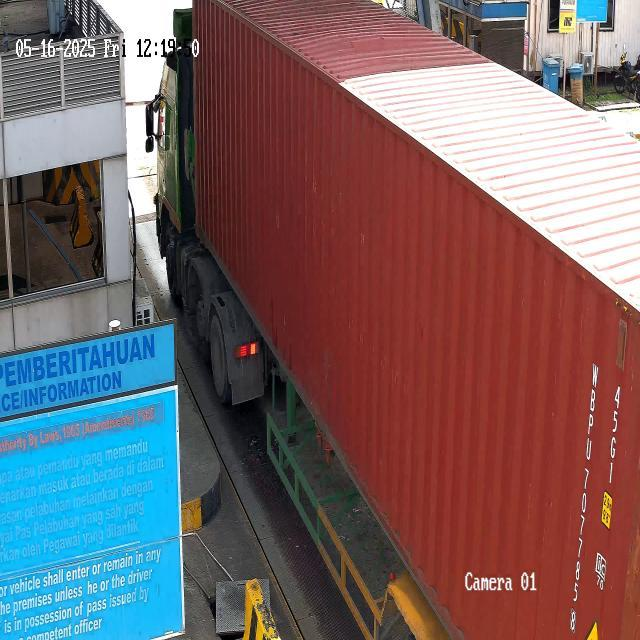ISO: (605, 377, 623, 495)
container_number: (562, 335, 598, 640)
